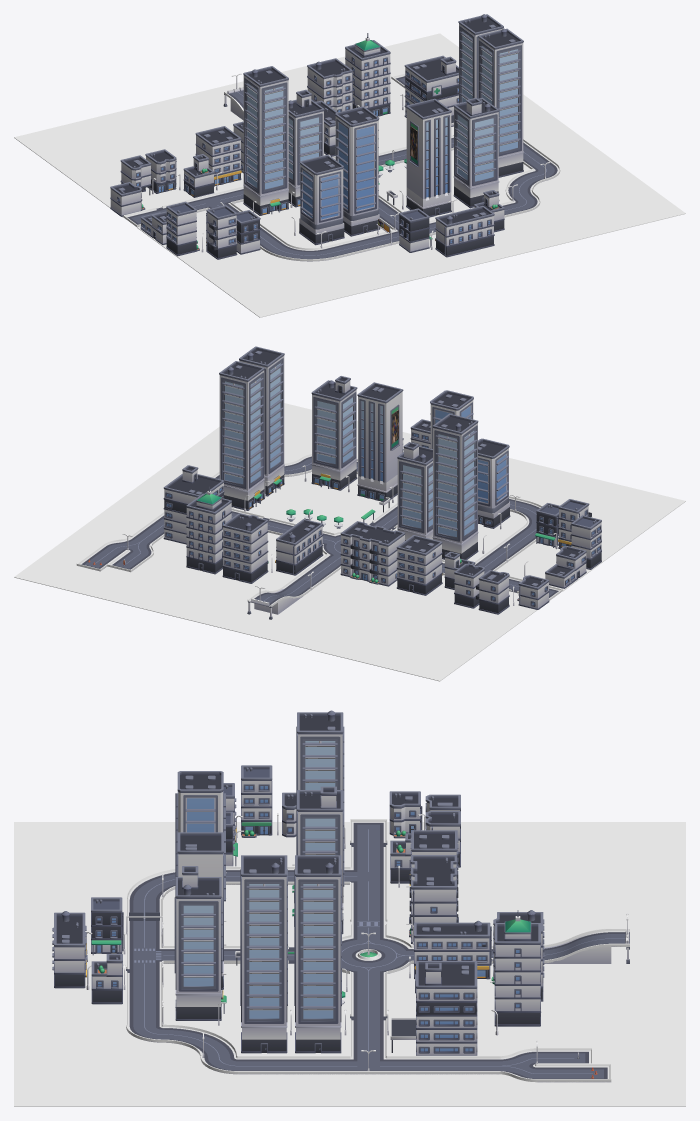
Rendered from arena.glb.
3 renders of one model, top to bottom at view 1: azimuth 30°, elevation 25°; view 2: azimuth 150°, elevation 25°; view 3: azimuth 270°, elevation 25°, orthographic. The views are drawn at different scales.
Parts seen in each view (by area): view 1: tile-low (×13), building-skyscraper-d (×3), building-skyscraper-c (×2), building-skyscraper-e, building-skyscraper-b, building-skyscraper-a, building-k (×2), building-m, building-n, building-h (×2), building-i, building-l (+9 smaller); view 2: tile-low (×12), building-skyscraper-d (×3), building-skyscraper-c (×2), building-skyscraper-e, building-j, building-m, building-l, building-skyscraper-a, building-i, building-n, building-k, road-straight (×2) (+10 smaller); view 3: tile-low (×14), building-skyscraper-d (×3), building-skyscraper-c (×2), road-straight (×7), building-n, building-k (×2), building-m, building-j, building-skyscraper-b, road-roundabout, building-d (×2), building-f (+13 smaller).
Part boxes in pixels (left/top/right/bottom): tile-low (×13): left=14, top=33, right=685, bottom=317; building-skyscraper-d (×3): left=243, top=14, right=523, bottom=215; building-skyscraper-c (×2): left=288, top=89, right=499, bottom=208; building-skyscraper-e: left=406, top=98, right=451, bottom=217; building-skyscraper-b: left=335, top=106, right=380, bottom=236; building-skyscraper-a: left=299, top=155, right=344, bottom=245; building-k (×2): left=315, top=100, right=494, bottom=257; building-m: left=345, top=33, right=390, bottom=116; building-n: left=404, top=55, right=458, bottom=126; building-h (×2): left=236, top=208, right=432, bottom=254; building-i: left=195, top=126, right=241, bottom=186; building-l: left=307, top=58, right=352, bottom=112; tile-low (×12): left=14, top=403, right=685, bottom=681; building-skyscraper-d (×3): left=219, top=346, right=478, bottom=559; building-skyscraper-c (×2): left=311, top=376, right=432, bottom=540; building-skyscraper-e: left=357, top=382, right=403, bottom=501; building-j: left=340, top=521, right=405, bottom=586; building-m: left=186, top=486, right=231, bottom=574; building-l: left=222, top=513, right=268, bottom=583; building-skyscraper-a: left=478, top=438, right=510, bottom=528; building-i: left=396, top=535, right=442, bottom=595; building-n: left=163, top=465, right=224, bottom=544; building-k: left=275, top=519, right=323, bottom=575; road-straight (×2): left=283, top=527, right=536, bottom=593; tile-low (×14): left=14, top=822, right=685, bottom=1106; building-skyscraper-d (×3): left=240, top=710, right=344, bottom=1053; building-skyscraper-c (×2): left=174, top=786, right=344, bottom=1020; road-straight (×7): left=127, top=884, right=499, bottom=1074; building-n: left=390, top=961, right=477, bottom=1055; building-k (×2): left=52, top=911, right=491, bottom=988; building-m: left=494, top=910, right=541, bottom=1026; building-j: left=409, top=855, right=458, bottom=943; building-skyscraper-b: left=175, top=771, right=225, bottom=901; road-roundabout: left=342, top=931, right=413, bottom=979; building-d (×2): left=91, top=833, right=411, bottom=1004; building-f: left=241, top=765, right=272, bottom=837.
Size of the model in its own units: 18.05 by 5.88 by 18.
57 materials, 56 textured.
